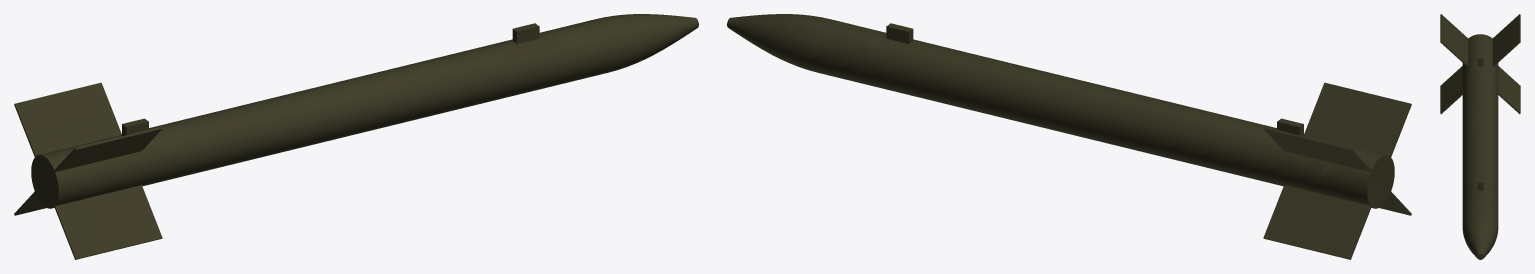
File: hvar.glb
The picture shows the model from 3 angles, left to right: view 1: azimuth 30°, elevation 25°; view 2: azimuth 150°, elevation 25°; view 3: azimuth 270°, elevation 25°; orthographic projection. The views are drawn at different scales.
Visible parts, largest first — view 1: hvar; view 2: hvar; view 3: hvar.
Boxes of the visible parts, <box> form: hvar: <box>14,14,698,259</box>; hvar: <box>727,14,1411,259</box>; hvar: <box>1440,14,1520,259</box>.
Bounding box in the file's own units: 1.73 × 0.2842 × 0.2842.
Materials: 1 (1 with a texture image).
